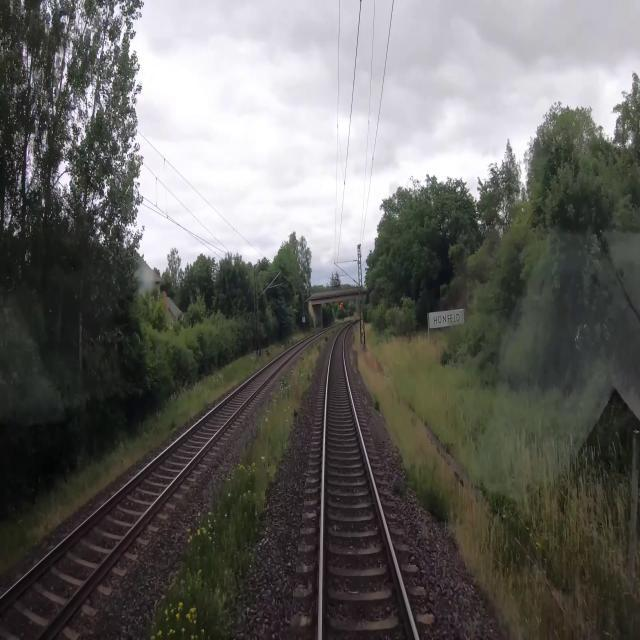Plant: (352, 324, 561, 639), (148, 336, 328, 639)
